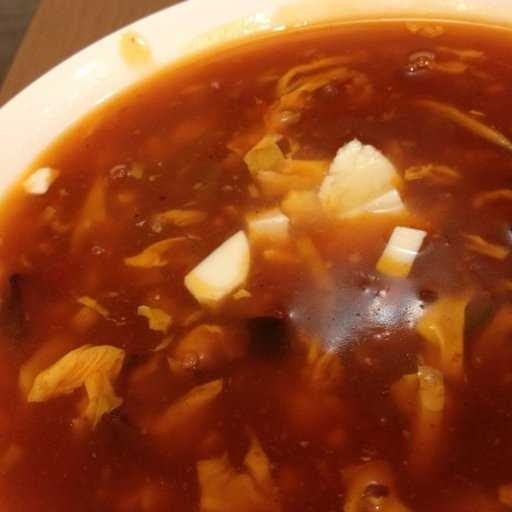soup: (5, 33, 512, 512)
